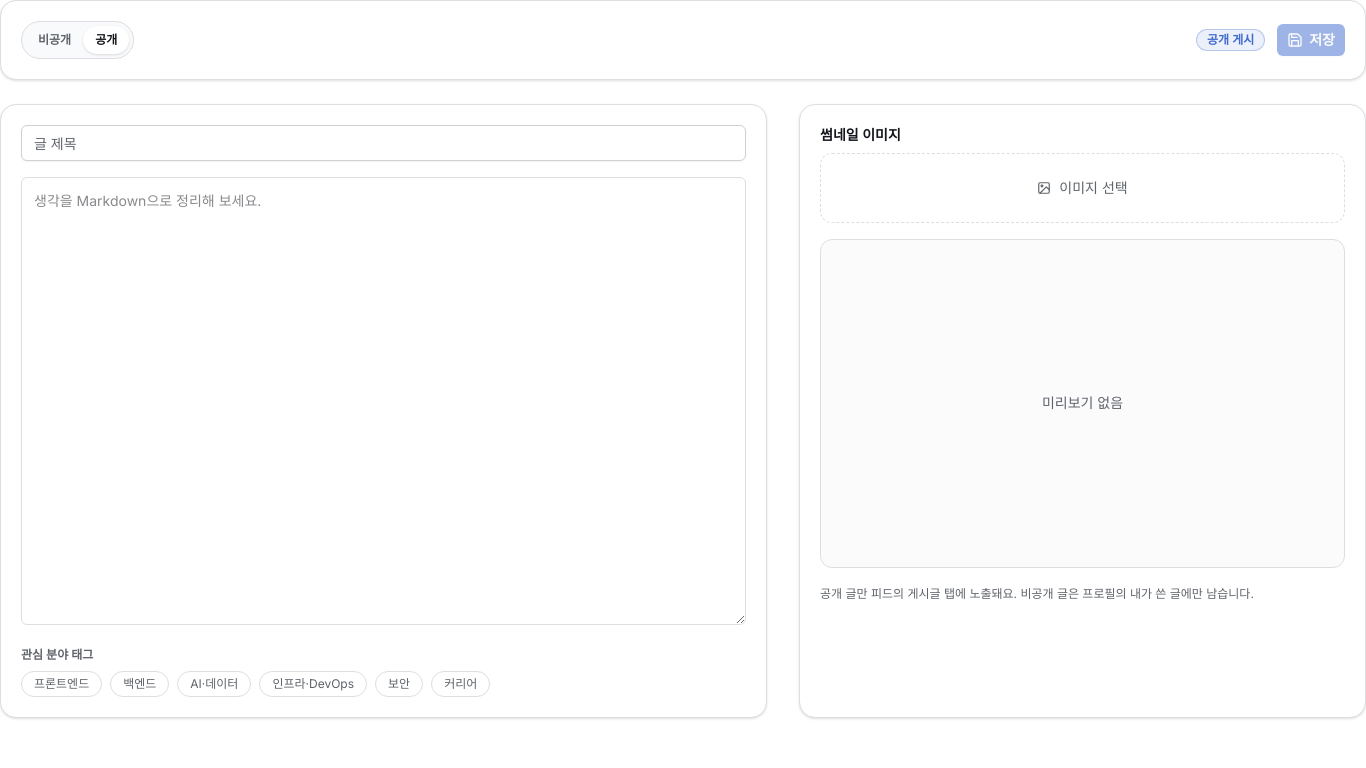
Test: WriteEditor 신규 작성 › 저장에 실패하면 서버 문구를 보여주고 이동하지 않는다
The image size is (1366, 768).
Type "제목" into the field with placeholder "글 제목" at (384, 143), box [21,125,746,161]
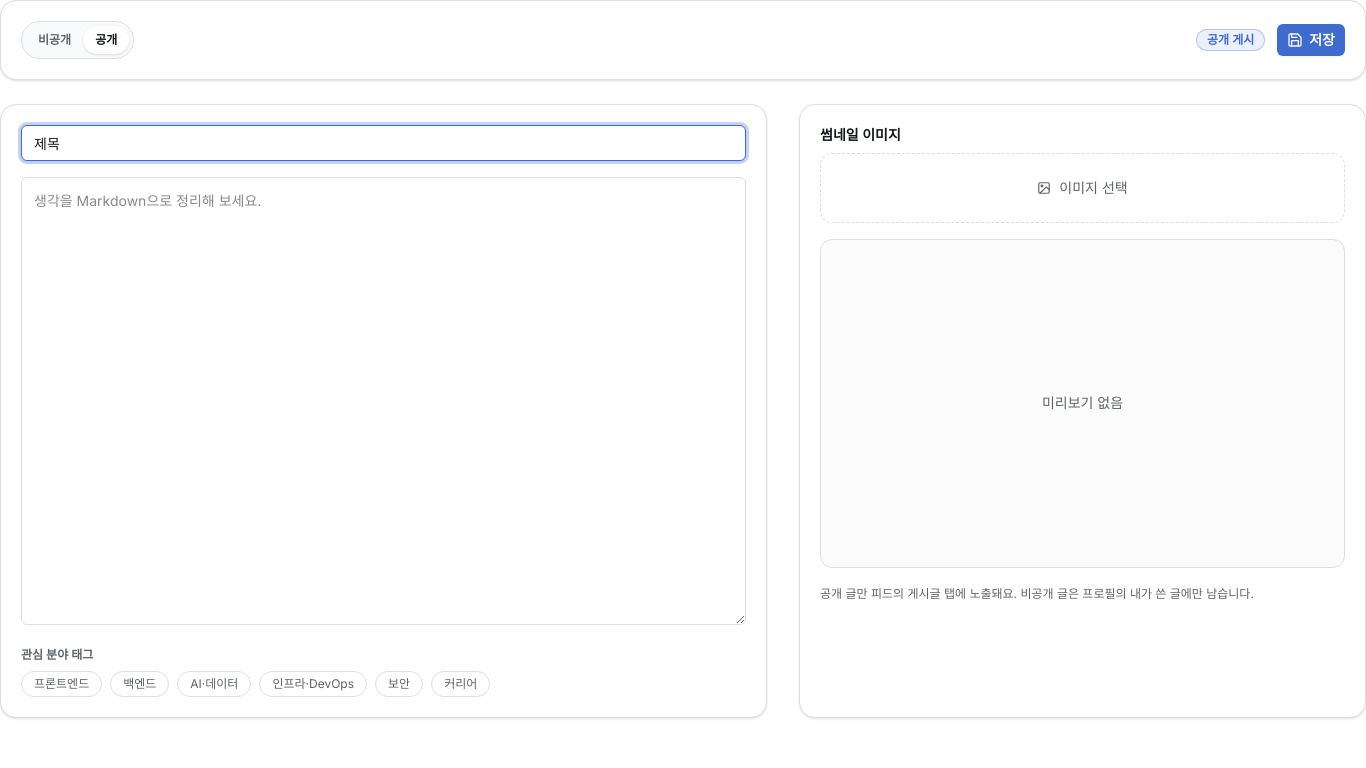
Click the button "저장" at (1311, 40), box [1277,24,1345,56]
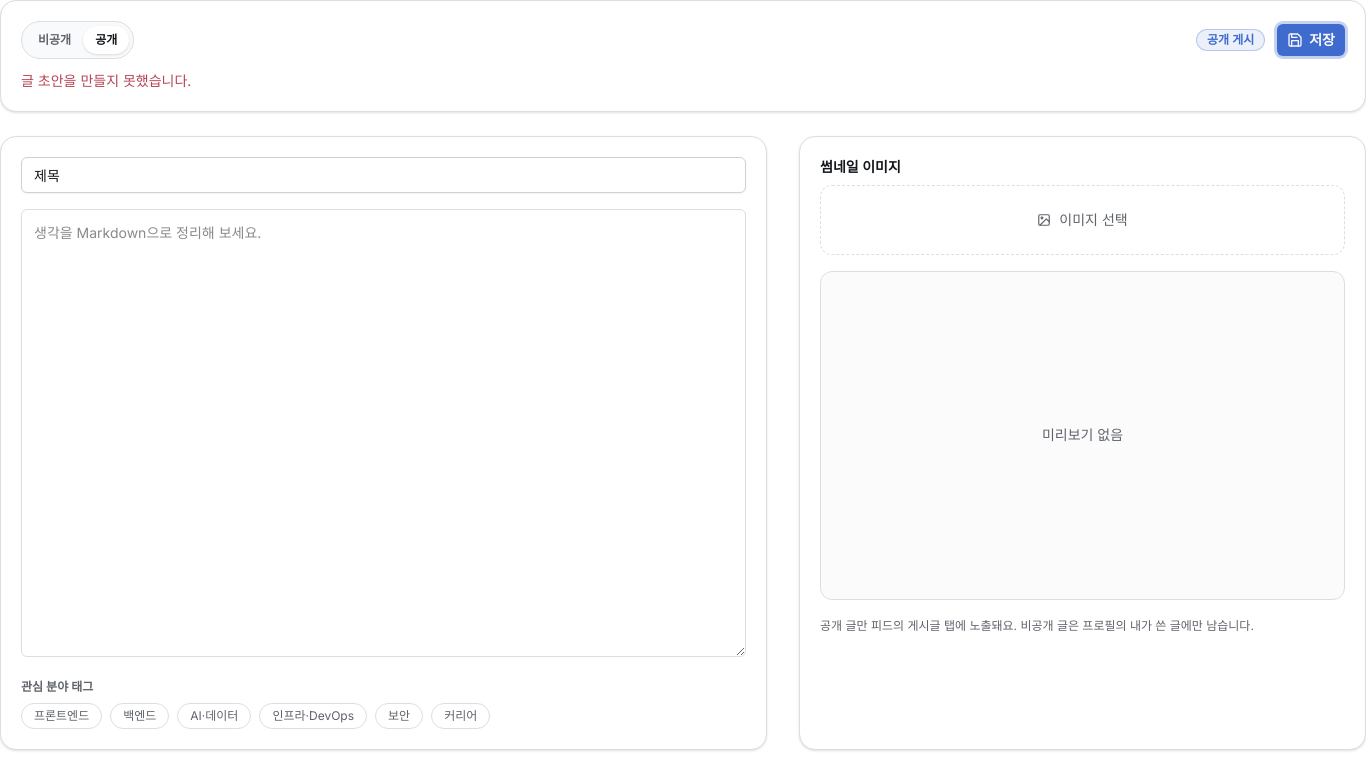
Expected: the message reads "글 초안을 만들지 못했습니다.", [21,72,191,89]
